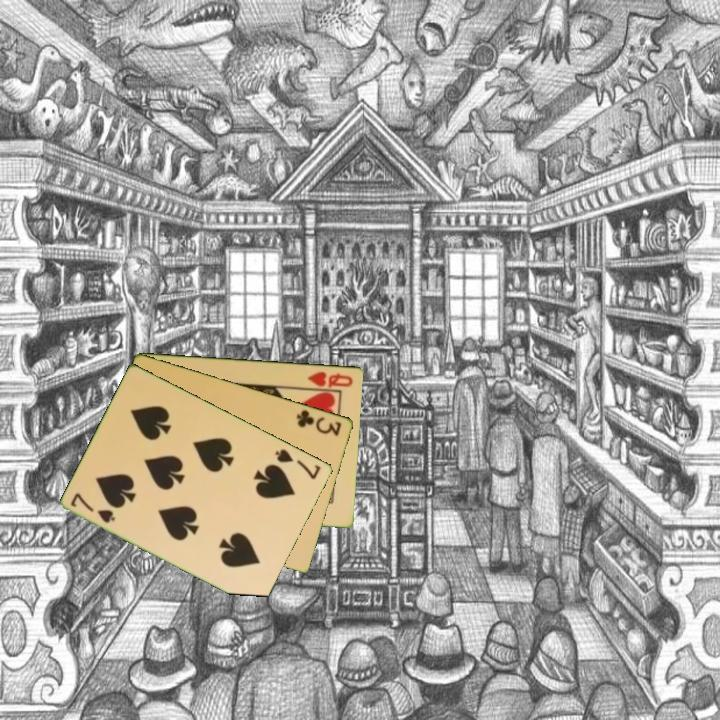3c: (293, 406, 345, 439)
7s: (272, 445, 324, 482), (67, 489, 119, 526)
Qh: (304, 368, 356, 390)
